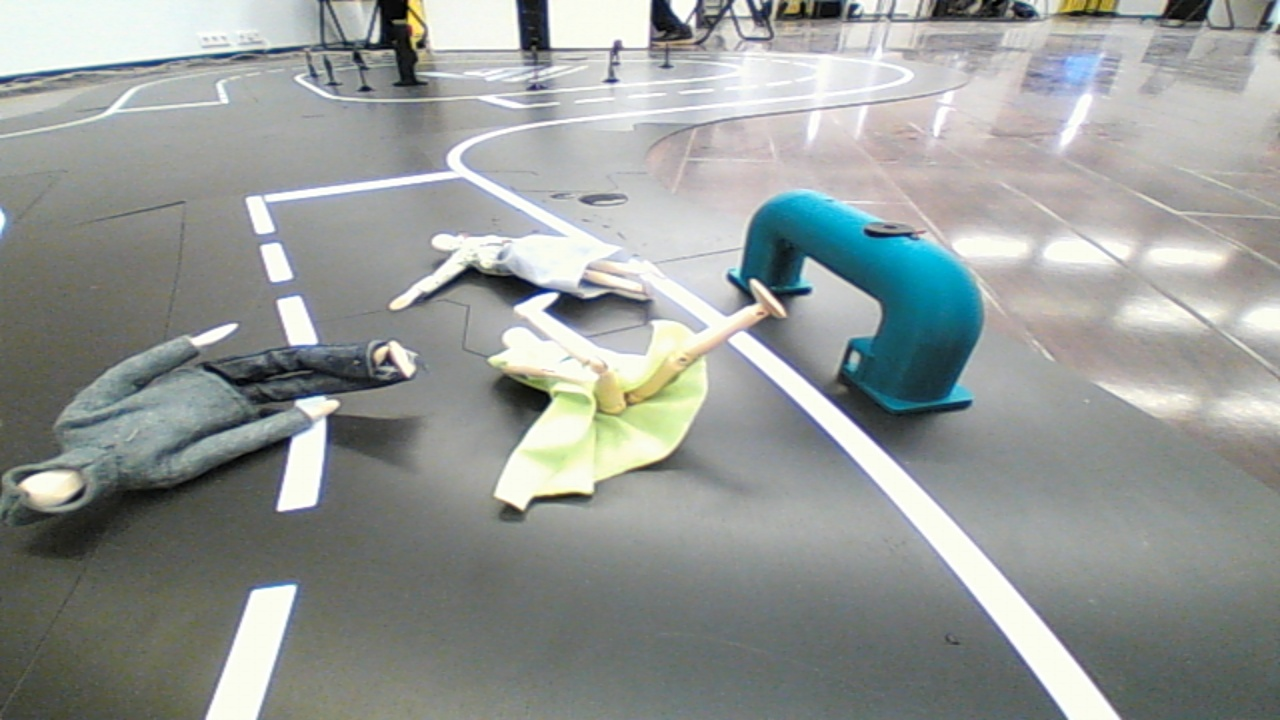Pedestrian crossing: (711, 156, 995, 427)
Road works: (0, 305, 433, 544), (471, 270, 822, 484), (371, 224, 666, 319)
